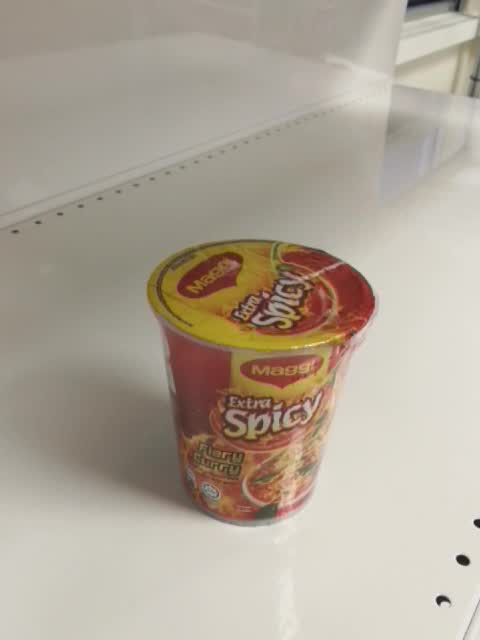maggi: (145, 237, 378, 529)
